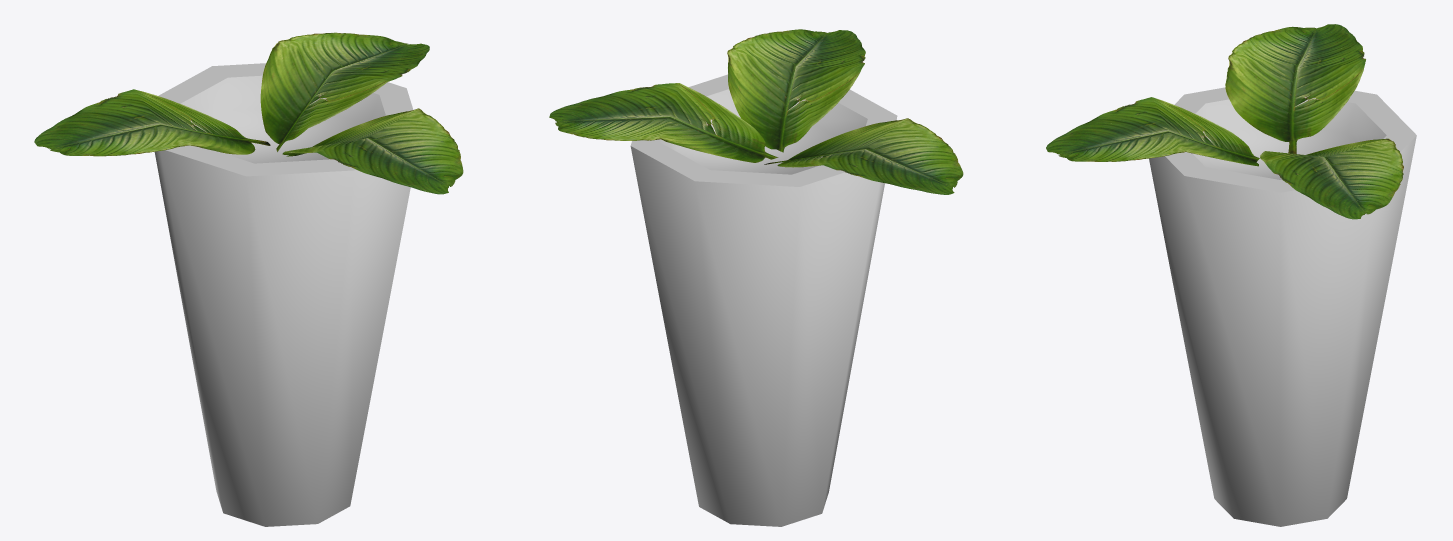
The model's file is PottedPlant.fbx.
3 views of the same model, side by side, from view 1: azimuth 30°, elevation 25°; view 2: azimuth 150°, elevation 25°; view 3: azimuth 270°, elevation 25° (orthographic). The views are drawn at different scales.
Visible parts, largest first — view 1: Cylinder.001; view 2: Cylinder.001; view 3: Cylinder.001.
Boxes of the visible parts, left/top/right/bottom form: Cylinder.001: left=34, top=32, right=463, bottom=526; Cylinder.001: left=549, top=29, right=963, bottom=526; Cylinder.001: left=1046, top=24, right=1416, bottom=526.
Size of the model in its own units: 1.18 by 1.07 by 1.01.
